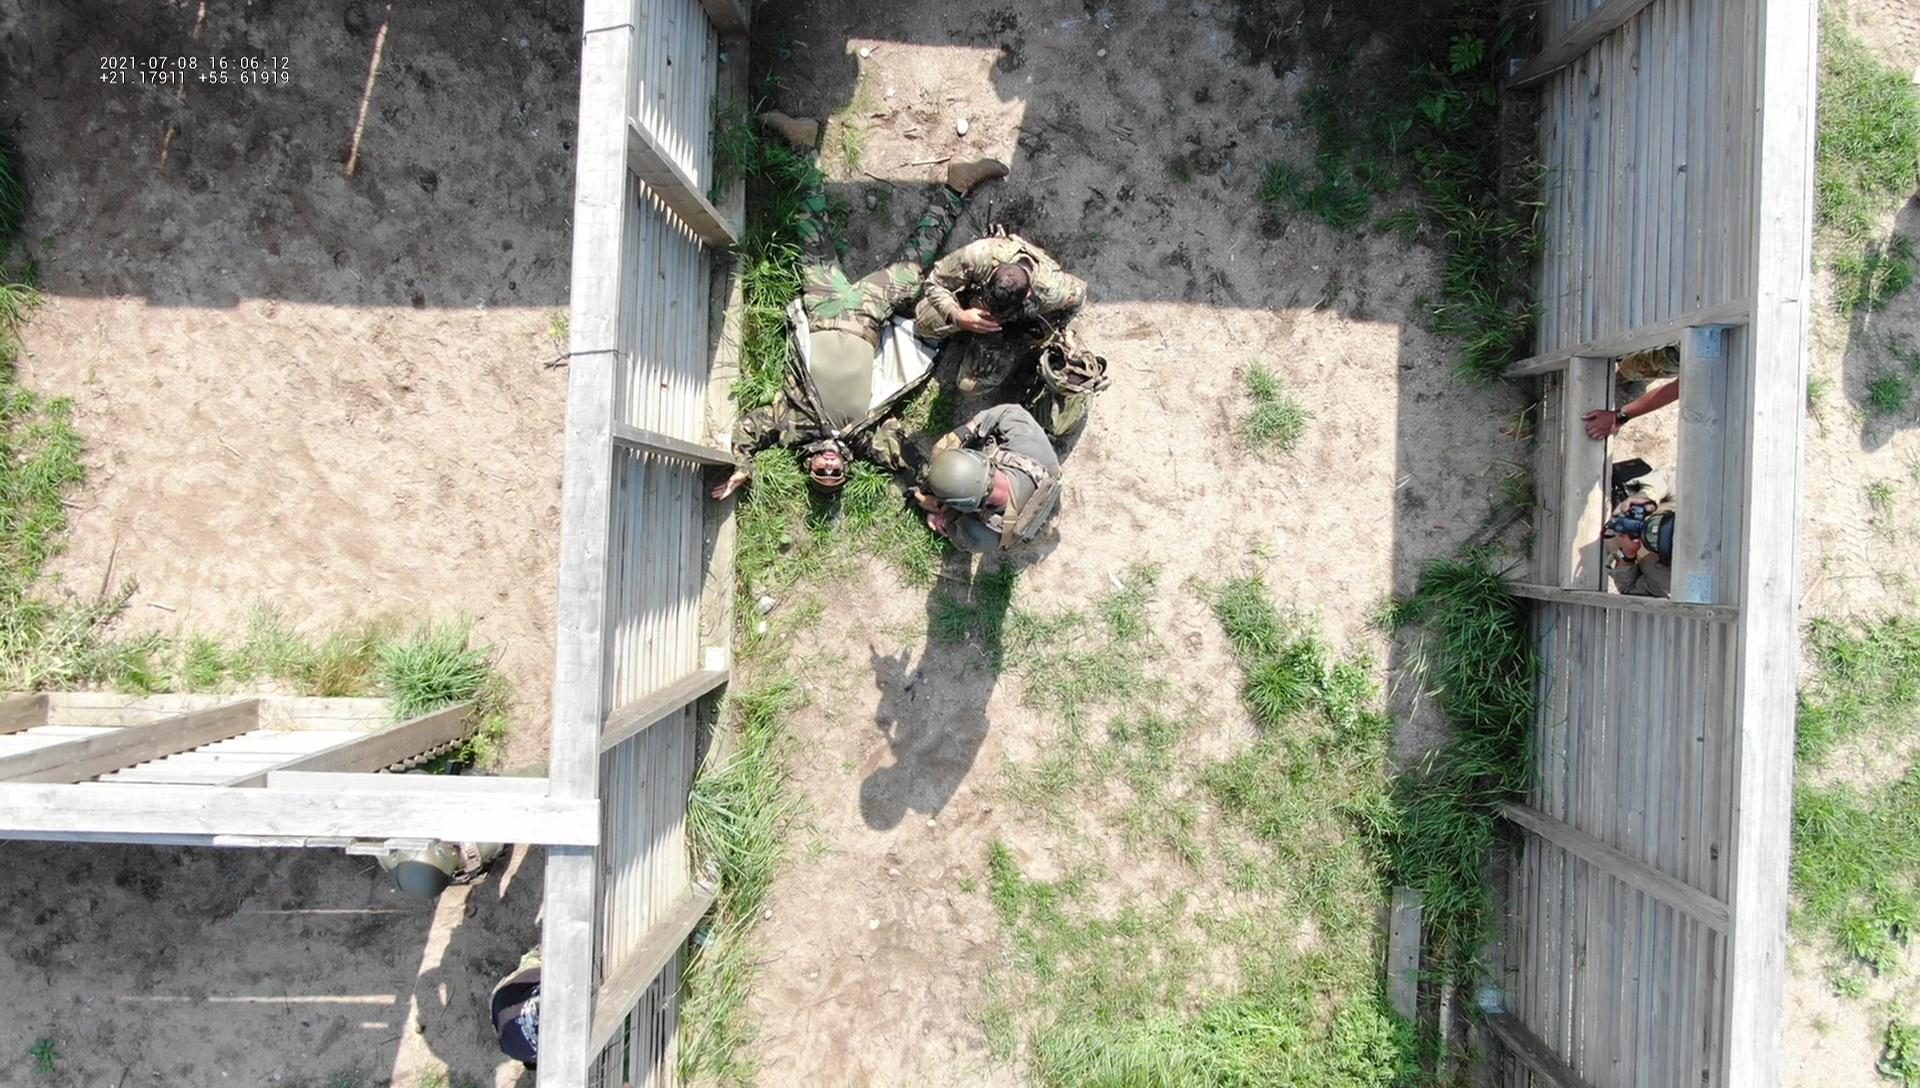Soldier: (731, 112, 895, 475), (893, 218, 1102, 418), (934, 405, 1073, 567)
